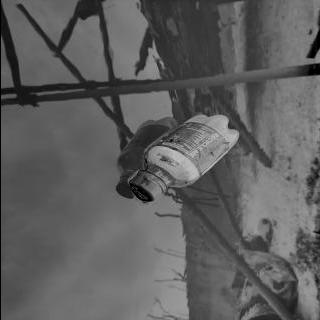bottle: (124, 112, 242, 204)
